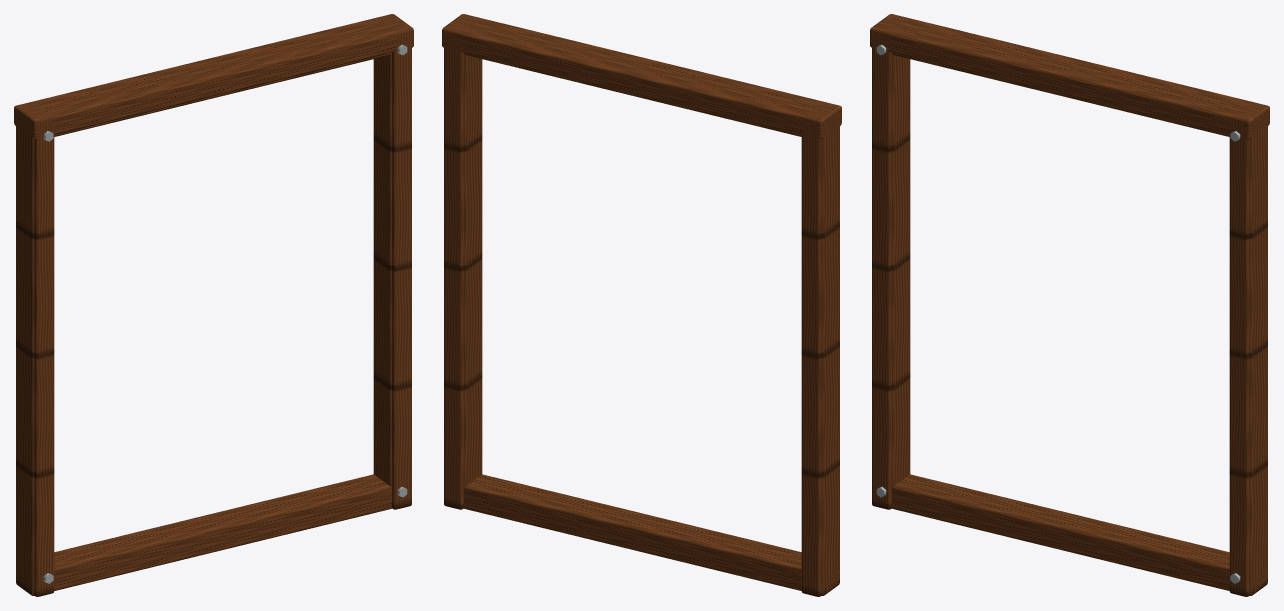
The model's file is modular-survival-base-builder-wall-open-stud-frame-e0d2898b__24162.glb.
3 views of the same model, side by side, from view 1: azimuth 30°, elevation 25°; view 2: azimuth 150°, elevation 25°; view 3: azimuth 330°, elevation 25° (orthographic).
Visible parts, largest first — view 1: wall-open-stud-frame; view 2: wall-open-stud-frame; view 3: wall-open-stud-frame.
Boxes of the visible parts, x1,y1,x2,y2 form: wall-open-stud-frame: [14, 14, 413, 596]; wall-open-stud-frame: [442, 14, 841, 596]; wall-open-stud-frame: [870, 14, 1269, 596].
Size of the model in its own units: 2 by 2.4 by 0.2116.
Materials: 2 (1 with a texture image).
